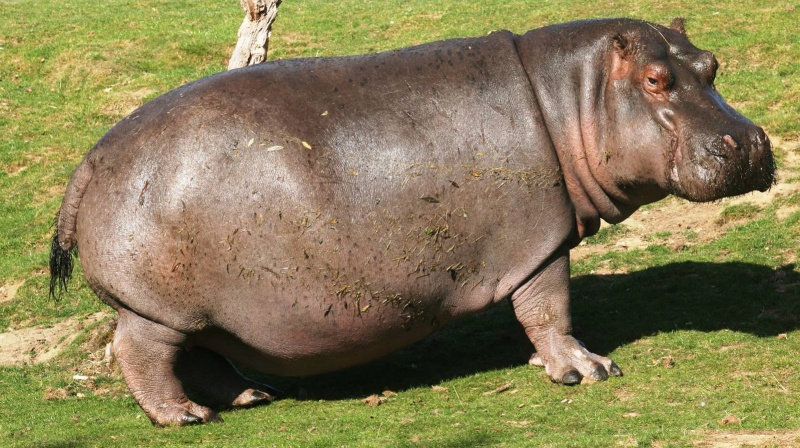hipopotamo: (44, 16, 773, 429)
